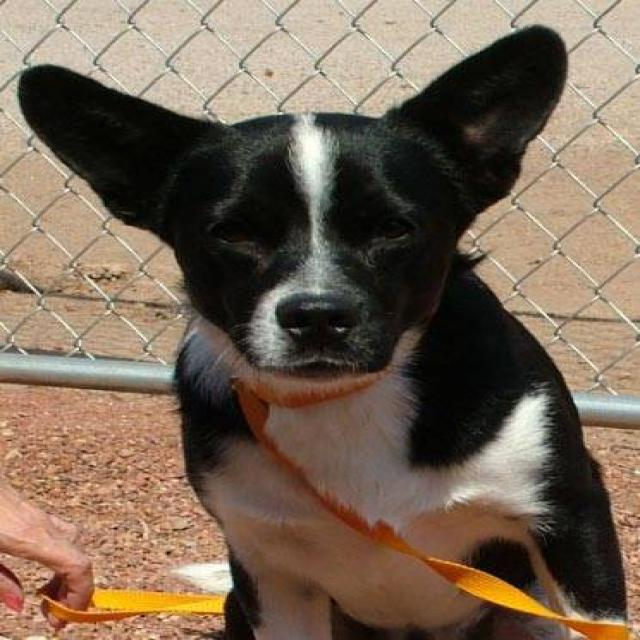dog: (14, 22, 631, 638)
